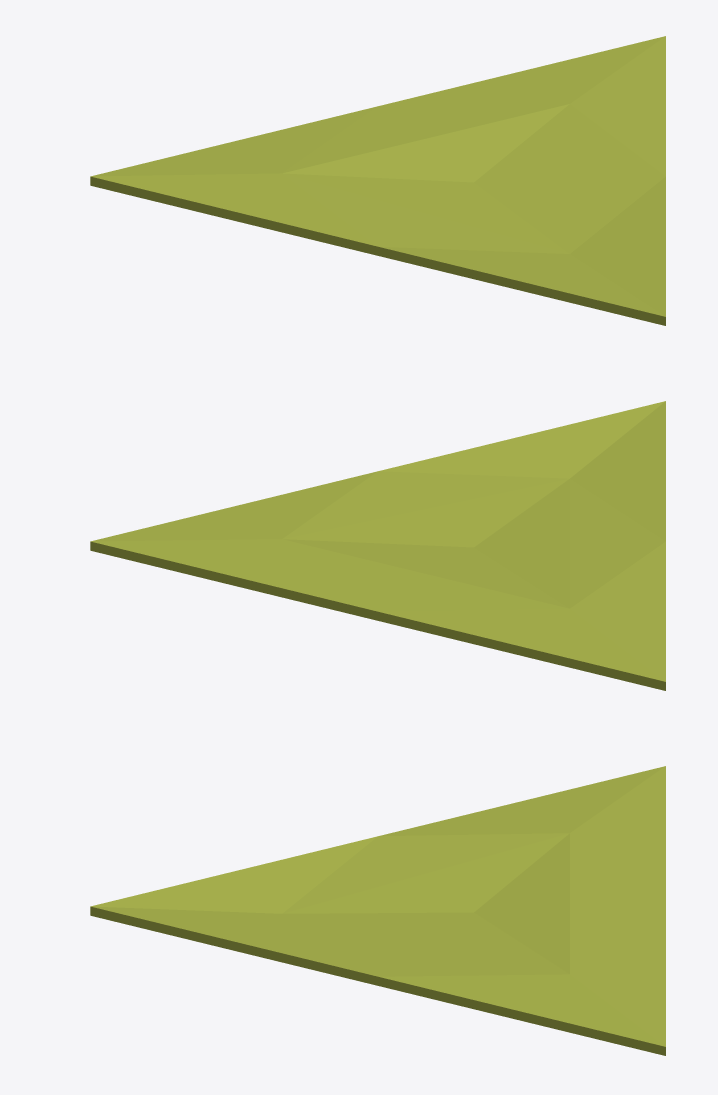
Rendered from tile0.glb.
3 views of the same model, one above another, from view 1: azimuth 30°, elevation 25°; view 2: azimuth 150°, elevation 25°; view 3: azimuth 270°, elevation 25° (orthographic).
Parts seen in each view (by area): view 1: ground.000; view 2: ground.000; view 3: ground.000.
Boxes of the visible parts, bbox=[...] form: ground.000: bbox=[90, 36, 665, 325]; ground.000: bbox=[90, 401, 665, 690]; ground.000: bbox=[90, 766, 665, 1055].
Size of the model in its own units: 1.2 by 0.0203 by 1.04.
